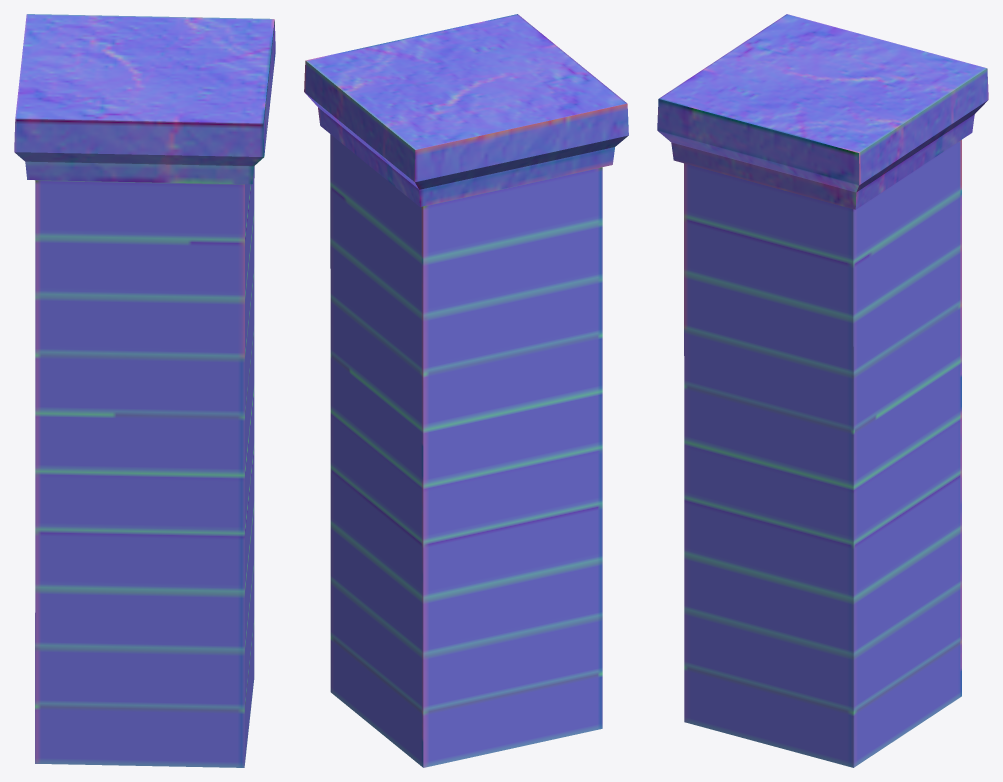
3 renders of one model, left to right at view 1: azimuth 30°, elevation 25°; view 2: azimuth 150°, elevation 25°; view 3: azimuth 270°, elevation 25°, orthographic. The views are drawn at different scales.
Visible parts, largest first — view 1: pillar_low_024; view 2: pillar_low_024; view 3: pillar_low_024.
Boxes of the visible parts, box(x1,y1,x2,y2) form: pillar_low_024: box(14, 14, 275, 767); pillar_low_024: box(304, 14, 628, 767); pillar_low_024: box(657, 14, 988, 767).
Bounding box in the file's own units: 94.92 × 198 × 94.92.
